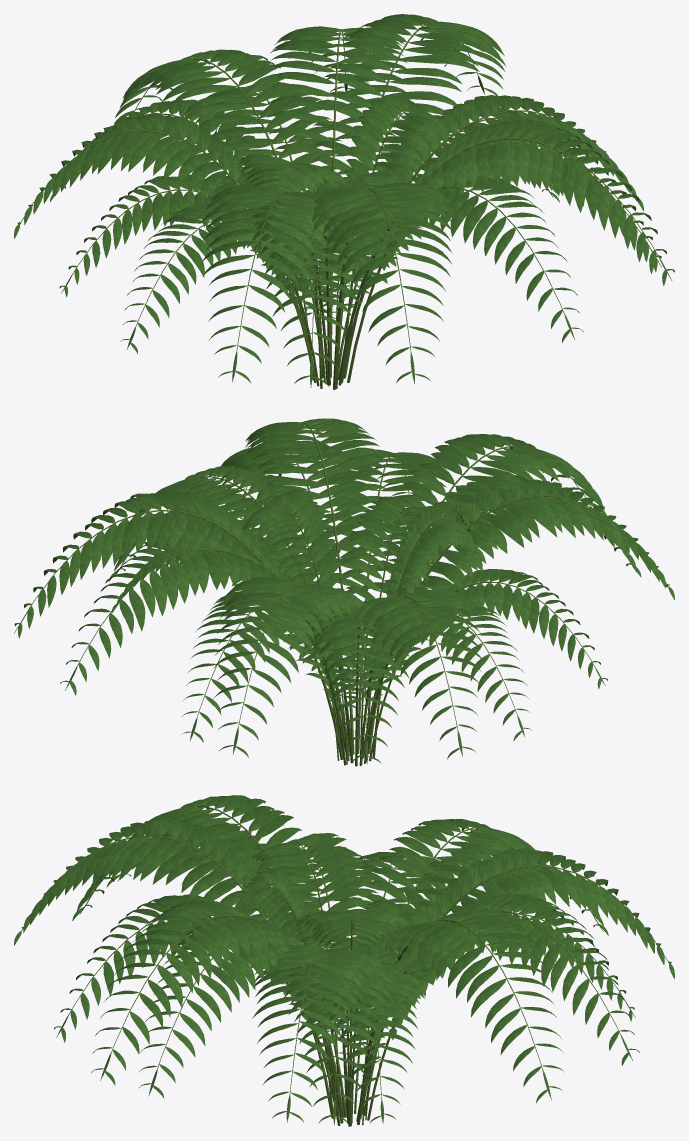
The model's file is n-fern.glb.
The picture shows the model from 3 angles, top to bottom: view 1: azimuth 30°, elevation 25°; view 2: azimuth 150°, elevation 25°; view 3: azimuth 270°, elevation 25°; orthographic projection. The views are drawn at different scales.
Parts seen in each view (by area): view 1: Foliage, Stems; view 2: Foliage, Stems; view 3: Foliage, Stems.
Boxes of the visible parts, x1,y1,x2,y2 form: Foliage: (14,14,674,386); Stems: (20,21,672,389); Foliage: (14,418,674,762); Stems: (14,422,668,766); Foliage: (14,795,674,1123); Stems: (22,806,669,1126).
Size of the model in its own units: 1.38 by 0.7 by 1.59.
Materials: 2 (1 with a texture image).
